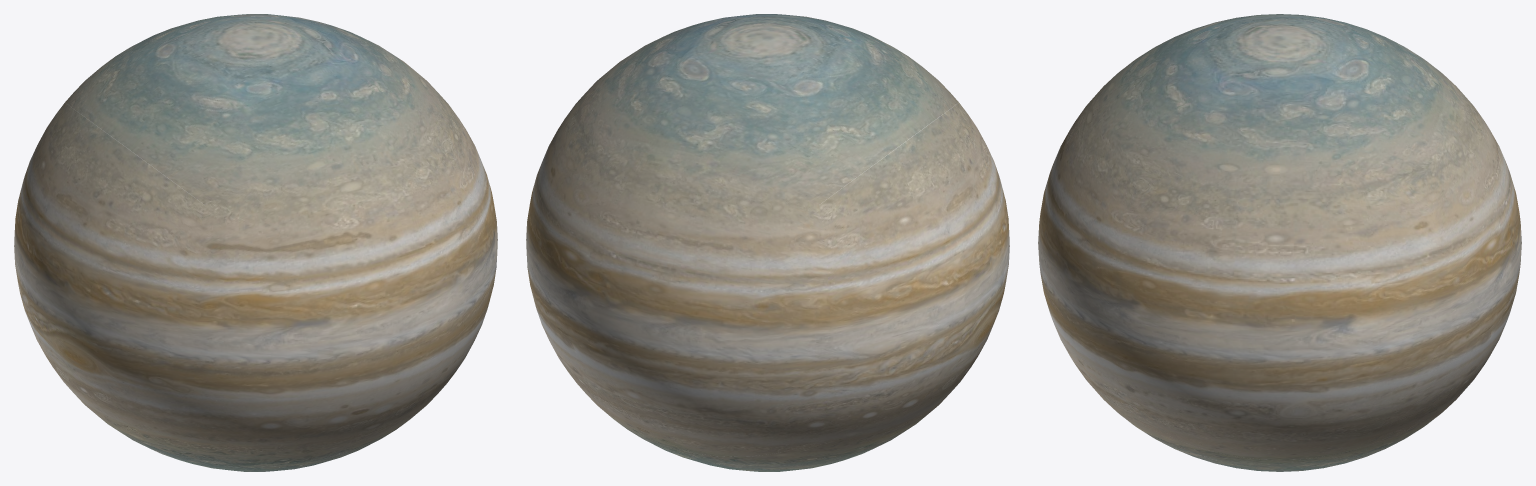
The model's file is jupiter.glb.
The picture shows the model from 3 angles, left to right: view 1: azimuth 30°, elevation 25°; view 2: azimuth 150°, elevation 25°; view 3: azimuth 270°, elevation 25°; orthographic projection.
Parts seen in each view (by area): view 1: cubemap; view 2: cubemap; view 3: cubemap.
Boxes of the visible parts, left/top/right/bottom form: cubemap: left=14, top=14, right=497, bottom=471; cubemap: left=526, top=14, right=1009, bottom=471; cubemap: left=1038, top=14, right=1521, bottom=471.
Size of the model in its own units: 1000 by 935 by 1000.
Materials: 1 (1 with a texture image).
